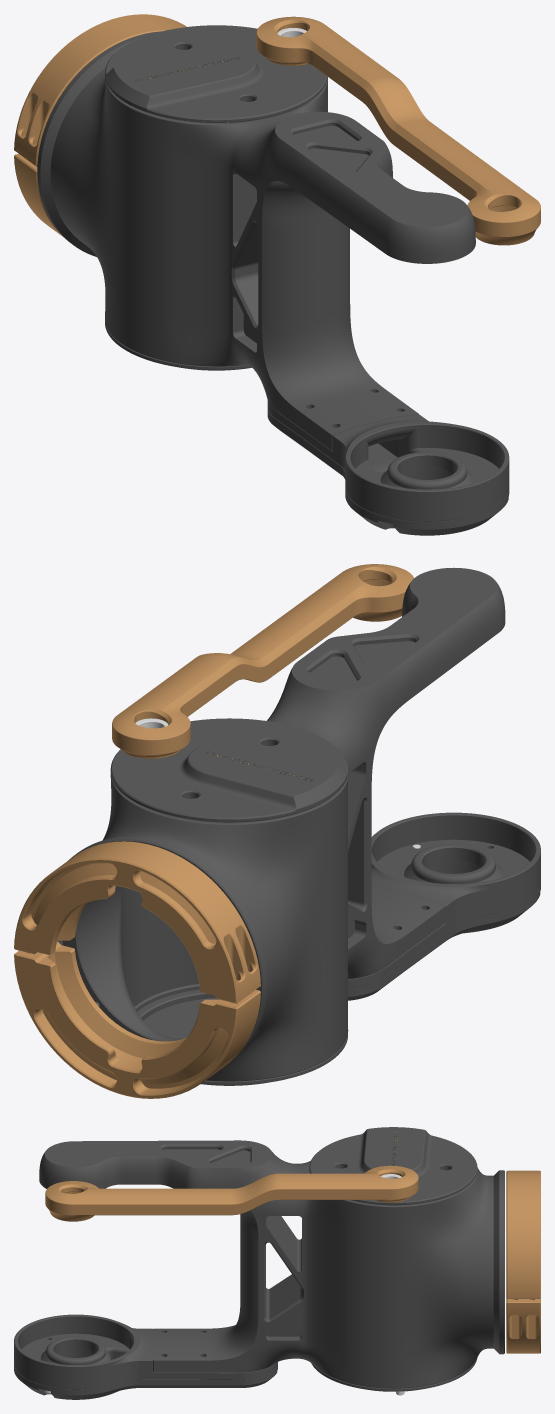
3 renders of one model, top to bottom at view 1: azimuth 30°, elevation 25°; view 2: azimuth 150°, elevation 25°; view 3: azimuth 270°, elevation 25°, orthographic. The views are drawn at different scales.
Visible parts, largest first — view 1: left_arm_link5_high; view 2: left_arm_link5_high; view 3: left_arm_link5_high.
Boxes of the visible parts, bbox=[...] form: left_arm_link5_high: bbox=[14, 14, 540, 535]; left_arm_link5_high: bbox=[14, 564, 540, 1098]; left_arm_link5_high: bbox=[14, 1127, 540, 1399].
Size of the model in its own units: 0.0991 by 0.1371 by 0.2821.
